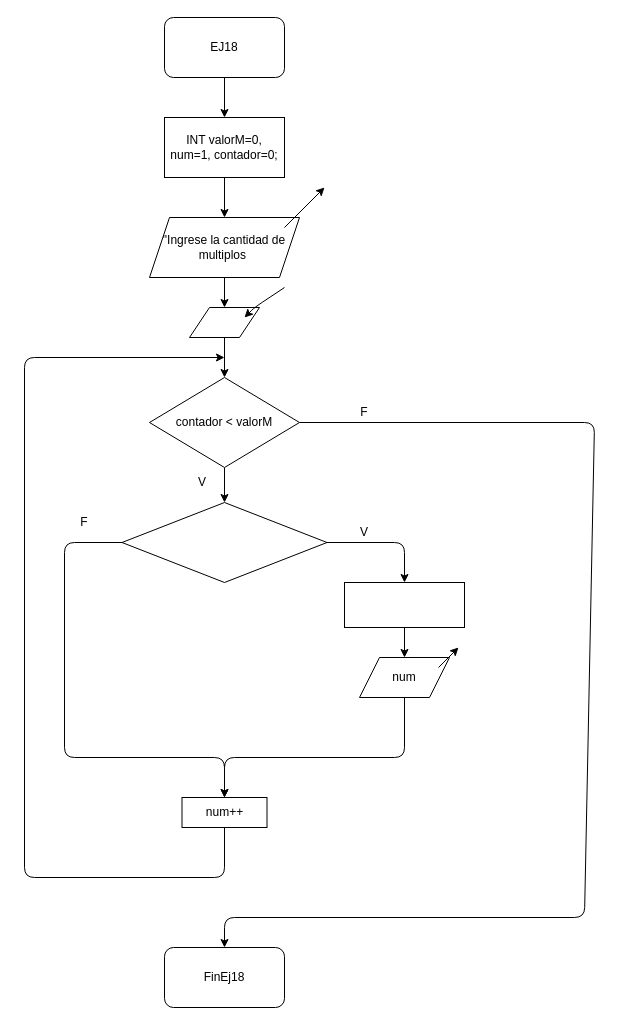
Image size: 620x1025. Some labels were removed from this diagram. Here are the shapes that lost their labels. From the top down, the centre of each, then its label:
the point at 224,322: valorM
the point at 224,542: num%3==0 & num%5!=0
the point at 404,605: contador++
